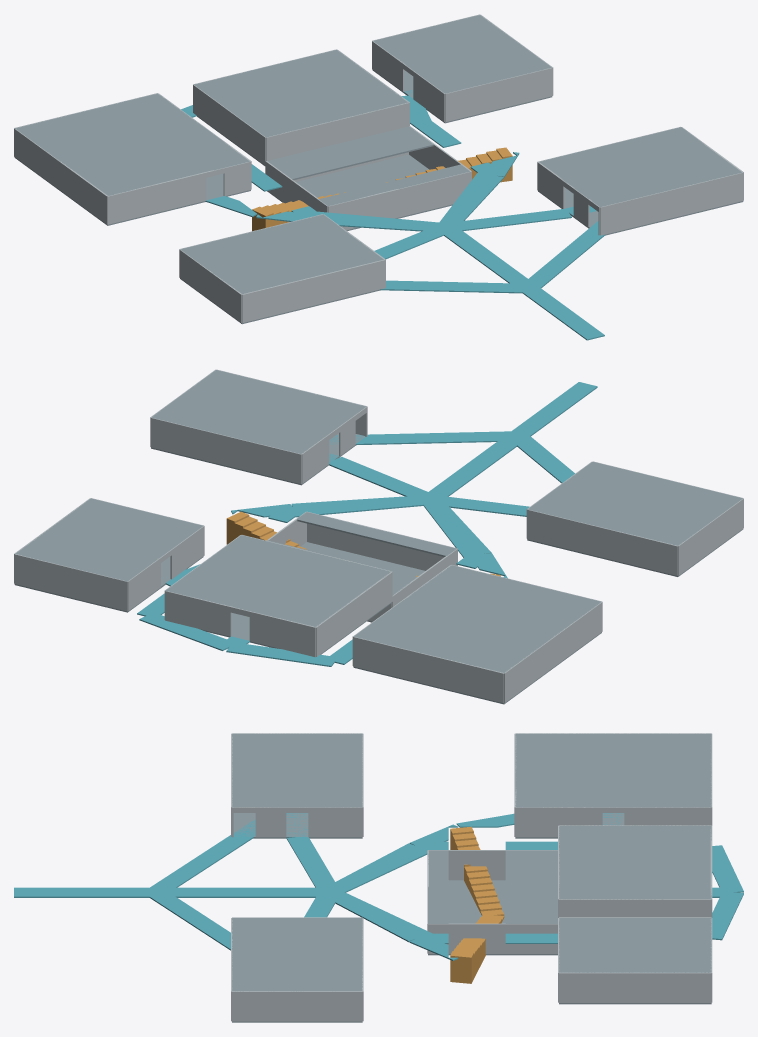
The model's file is rough-shell.glb.
3 renders of one model, top to bottom at view 1: azimuth 30°, elevation 25°; view 2: azimuth 150°, elevation 25°; view 3: azimuth 270°, elevation 25°, orthographic. The views are drawn at different scales.
Visible parts, largest first — view 1: Ceiling cap boathouse, Ceiling cap fish, Ceiling cap cottage-b, Ceiling cap cottage-a, Ceiling cap net, Wall cottage-a S, Wall cottage-b S, Wall fish S, Wall undercroft S, Wall net S, Wall boathouse S, Wall boathouse W (+28 smaller); view 2: Ceiling cap boathouse, Ceiling cap fish, Ceiling cap cottage-b, Ceiling cap cottage-a, Ceiling cap net, Wall cottage-b N, Wall boathouse N, Wall cottage-a N, Wall net N, Wall boathouse W, Wall undercroft S, Wall fish W (+27 smaller); view 3: Ceiling cap boathouse, Ceiling cap fish, Ceiling cap cottage-a, Ceiling cap cottage-b, Ceiling cap net, Wall net E, Wall cottage-b E, Wall fish E, Wall undercroft E, Wall boathouse E.001, Ceiling cap undercroft, Ceiling cap undercroft.004 (+26 smaller).
Part boxes in pixels (box(x1,y1,x2,y2)): Ceiling cap boathouse: box(15, 93, 249, 195); Ceiling cap fish: box(194, 49, 408, 137); Ceiling cap cottage-b: box(539, 127, 741, 206); Ceiling cap cottage-a: box(180, 214, 383, 294); Ceiling cap net: box(373, 15, 551, 93); Wall cottage-a S: box(242, 259, 385, 322); Wall cottage-b S: box(600, 172, 743, 235); Wall fish S: box(266, 102, 409, 161); Wall undercroft S: box(328, 171, 471, 230); Wall net S: box(445, 67, 552, 122); Wall boathouse S: box(107, 172, 206, 224); Wall boathouse W: box(14, 128, 107, 224); Ceiling cap boathouse: box(354, 565, 601, 672); Ceiling cap fish: box(165, 535, 391, 627); Ceiling cap cottage-b: box(151, 370, 365, 453); Ceiling cap cottage-a: box(528, 461, 742, 545); Ceiling cap net: box(15, 498, 203, 581); Wall cottage-b N: box(150, 417, 301, 483); Wall boathouse N: box(353, 636, 503, 703); Wall cottage-a N: box(527, 509, 677, 575); Wall net N: box(14, 554, 127, 611); Wall boathouse W: box(504, 602, 602, 702); Wall undercroft S: box(307, 511, 457, 570); Wall fish W: box(316, 572, 392, 656); Ceiling cap boathouse: box(515, 733, 711, 807); Ceiling cap fish: box(559, 825, 711, 899); Ceiling cap cottage-a: box(232, 733, 362, 807); Ceiling cap cottage-b: box(232, 918, 362, 991); Ceiling cap net: box(559, 918, 711, 972); Wall net E: box(559, 972, 711, 1002); Wall cottage-b E: box(232, 991, 362, 1021); Wall fish E: box(559, 899, 711, 917); Wall undercroft E: box(428, 923, 557, 953); Wall boathouse E.001: box(515, 807, 602, 837); Ceiling cap undercroft: box(505, 850, 557, 885); Ceiling cap undercroft.004: box(505, 888, 557, 923).
Size of the model in its own units: 56.16 by 5.66 by 66.98.
